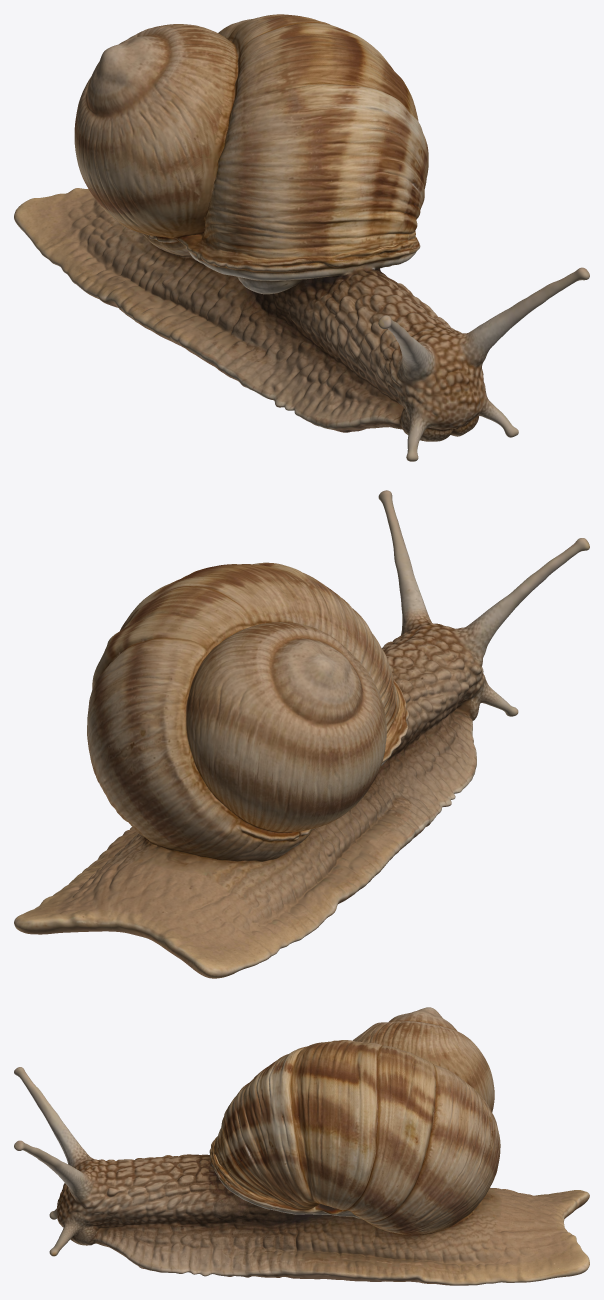
File: snail-v1.glb
The picture shows the model from 3 angles, top to bottom: view 1: azimuth 30°, elevation 25°; view 2: azimuth 150°, elevation 25°; view 3: azimuth 270°, elevation 25°; orthographic projection. The views are drawn at different scales.
Visible parts, largest first — view 1: tripo_node_49a1ffdb-41e7-4b81-b25b-d0a5a39ea45c; view 2: tripo_node_49a1ffdb-41e7-4b81-b25b-d0a5a39ea45c; view 3: tripo_node_49a1ffdb-41e7-4b81-b25b-d0a5a39ea45c.
Boxes of the visible parts, x1,y1,x2,y2 form: tripo_node_49a1ffdb-41e7-4b81-b25b-d0a5a39ea45c: (14, 14, 589, 461); tripo_node_49a1ffdb-41e7-4b81-b25b-d0a5a39ea45c: (14, 490, 589, 978); tripo_node_49a1ffdb-41e7-4b81-b25b-d0a5a39ea45c: (14, 1007, 589, 1285).
Bounding box in the file's own units: 0.4397 × 0.4055 × 1.
Materials: 1 (1 with a texture image).
